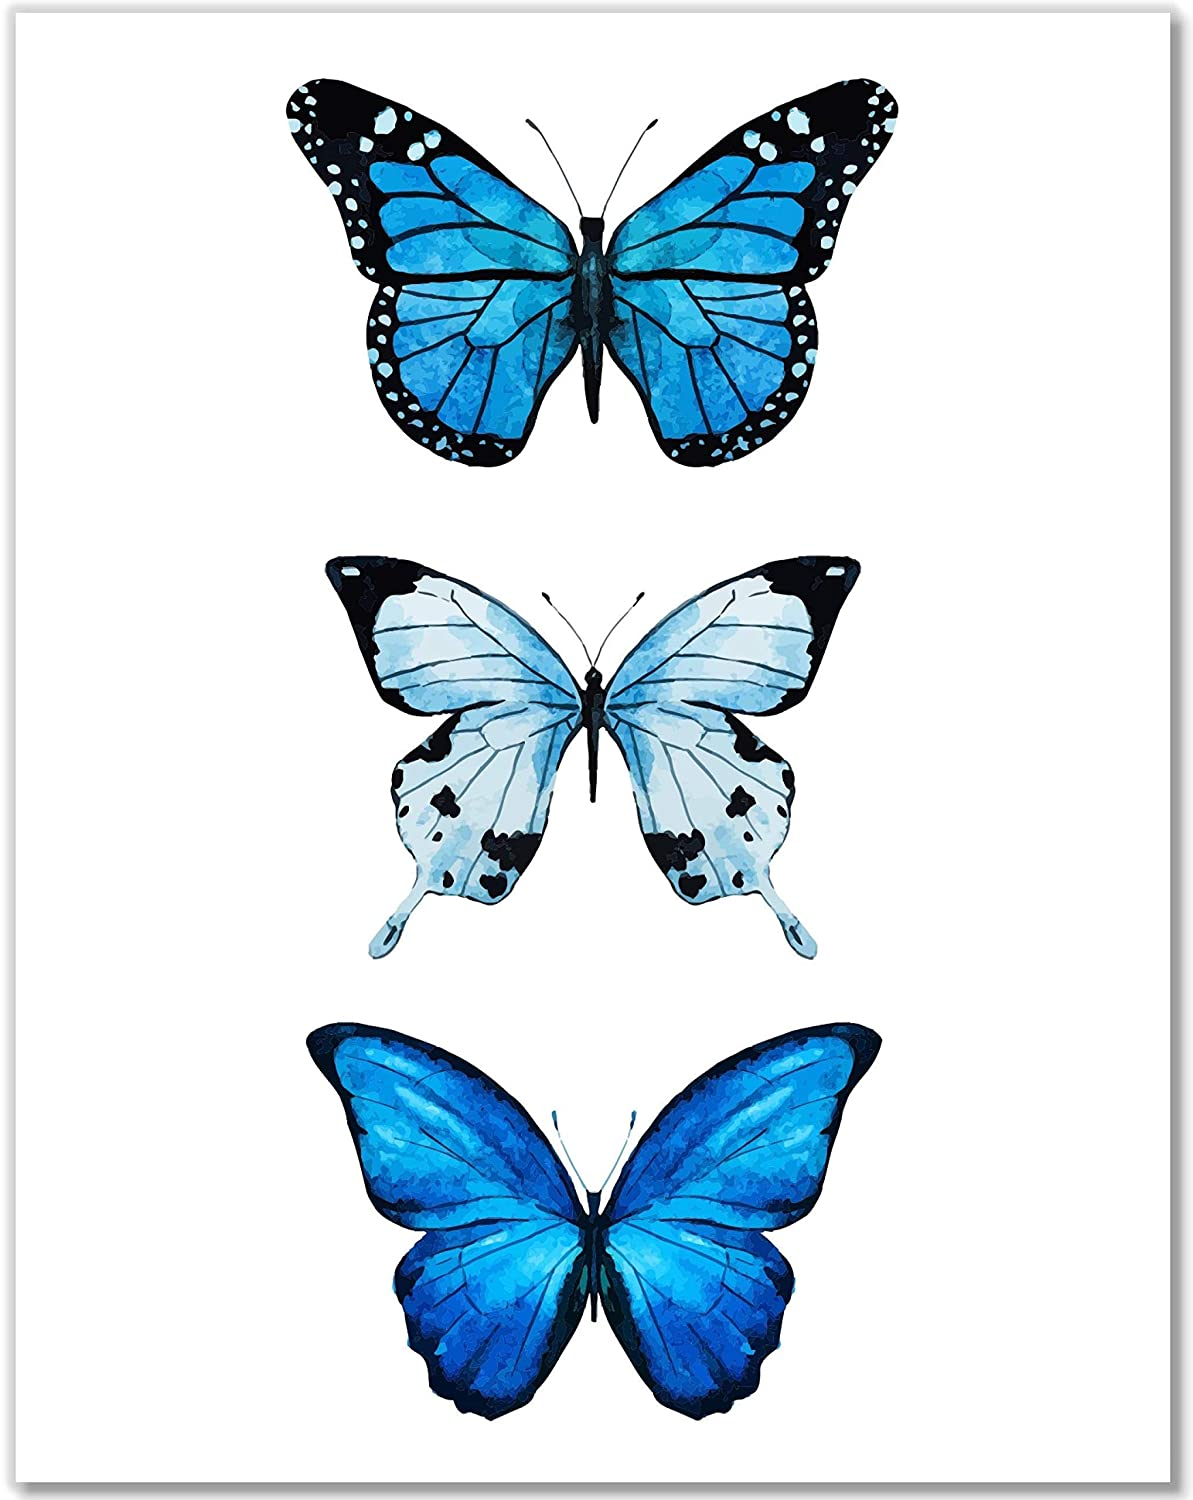kelebek: (274, 67, 904, 470), (302, 1017, 887, 1421), (318, 545, 876, 966)
